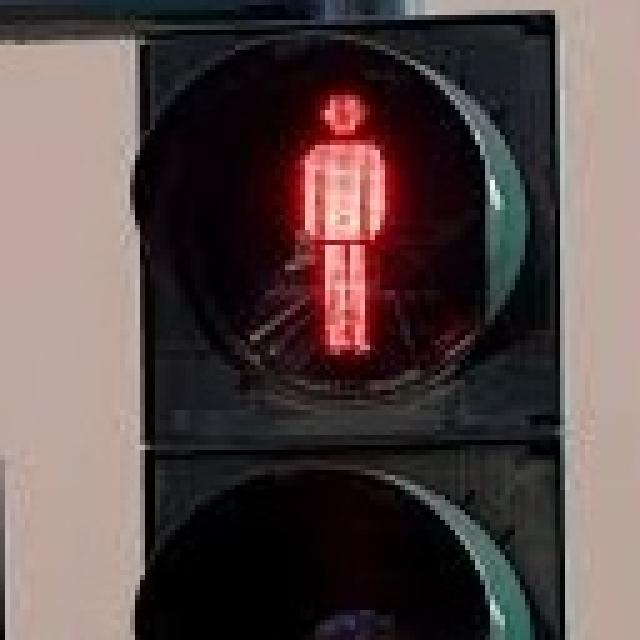red-crossing: (255, 60, 425, 370)
